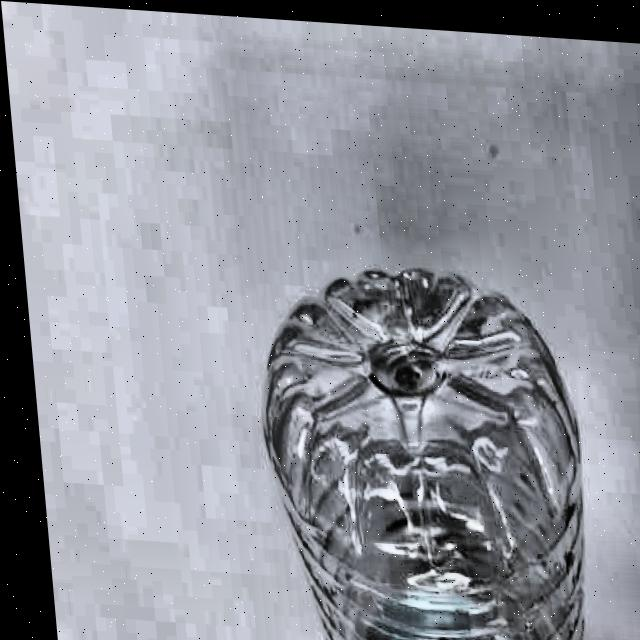plastic: (243, 252, 601, 640)
